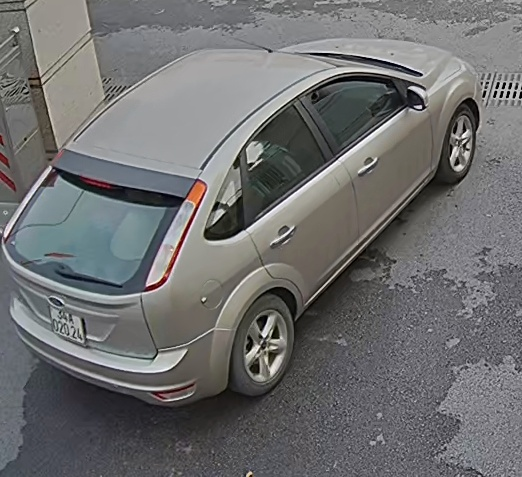vehicle plate: (39, 301, 93, 349)
